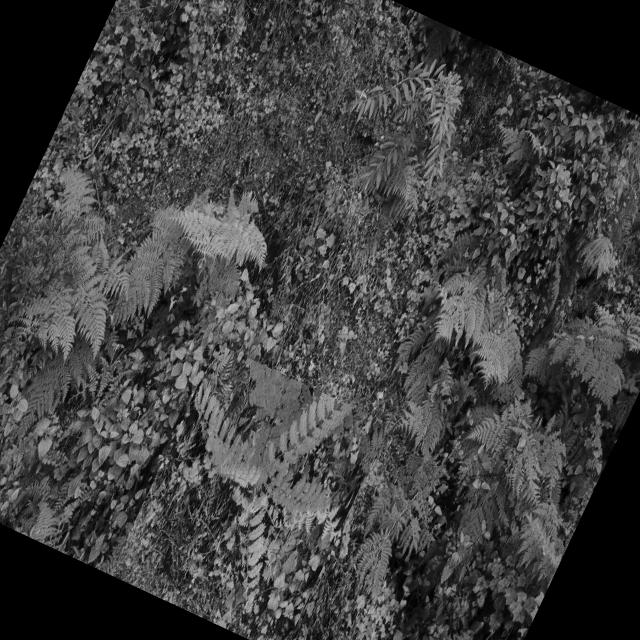Mysore-Thorn-Weed: (109, 343, 389, 640)
